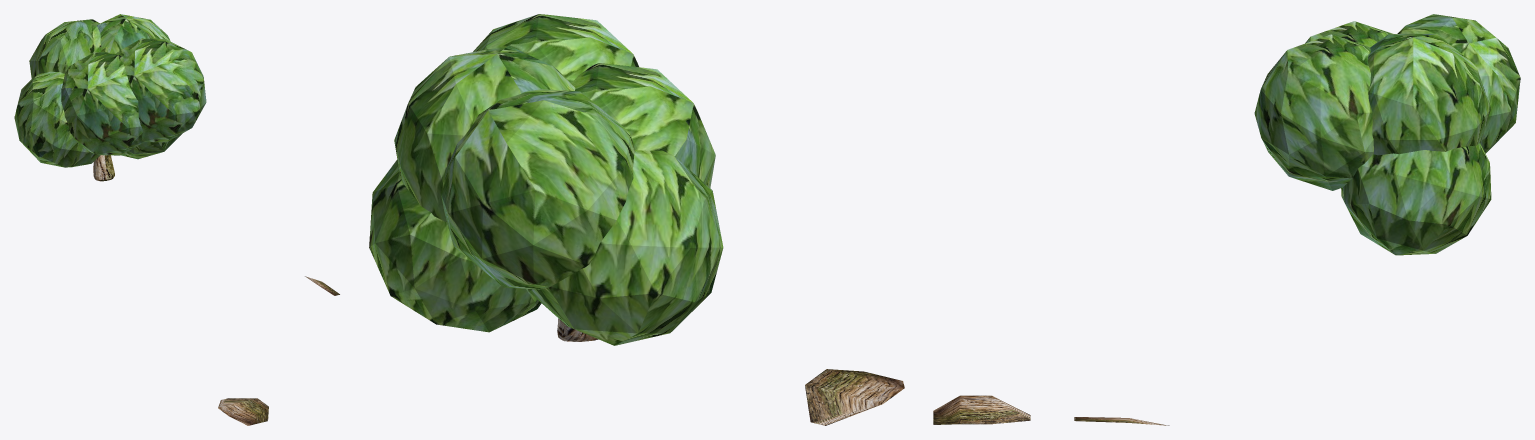
The model's file is albero.obj.
The picture shows the model from 3 angles, left to right: view 1: azimuth 30°, elevation 25°; view 2: azimuth 150°, elevation 25°; view 3: azimuth 270°, elevation 25°; orthographic projection. The views are drawn at different scales.
Parts seen in each view (by area): view 1: Icosphere.005, Icosphere, Icosphere.003, Icosphere.001, Icosphere.002, Foglia, Icosphere.004, Plane; view 2: Icosphere.001, Icosphere.003, Icosphere.004, Icosphere.002, Icosphere.005, Icosphere, Foglia; view 3: Icosphere, Icosphere.004, Icosphere.002, Icosphere.001, Foglia, Icosphere.005.
Part boxes in pixels (left/top/right/bottom): Icosphere.005: left=61, top=51, right=144, bottom=155; Icosphere: left=116, top=38, right=206, bottom=142; Icosphere.003: left=14, top=71, right=100, bottom=167; Icosphere.001: left=29, top=19, right=101, bottom=78; Icosphere.002: left=97, top=14, right=170, bottom=53; Foglia: left=218, top=398, right=268, bottom=425; Icosphere.004: left=121, top=133, right=182, bottom=159; Plane: left=93, top=155, right=114, bottom=181; Icosphere.001: left=440, top=89, right=635, bottom=289; Icosphere.003: left=528, top=150, right=723, bottom=345; Icosphere.004: left=369, top=160, right=541, bottom=332; Icosphere.002: left=394, top=45, right=575, bottom=222; Icosphere.005: left=571, top=63, right=715, bottom=187; Icosphere: left=473, top=14, right=638, bottom=83; Foglia: left=805, top=369, right=904, bottom=425; Icosphere: left=1254, top=34, right=1373, bottom=190; Icosphere.004: left=1341, top=143, right=1491, bottom=255; Icosphere.002: left=1367, top=34, right=1491, bottom=155; Icosphere.001: left=1397, top=14, right=1520, bottom=153; Foglia: left=933, top=395, right=1030, bottom=424; Icosphere.005: left=1305, top=21, right=1392, bottom=46.
Size of the model in its own units: 7.06 by 9.15 by 12.06.
2 materials, 2 textured.
